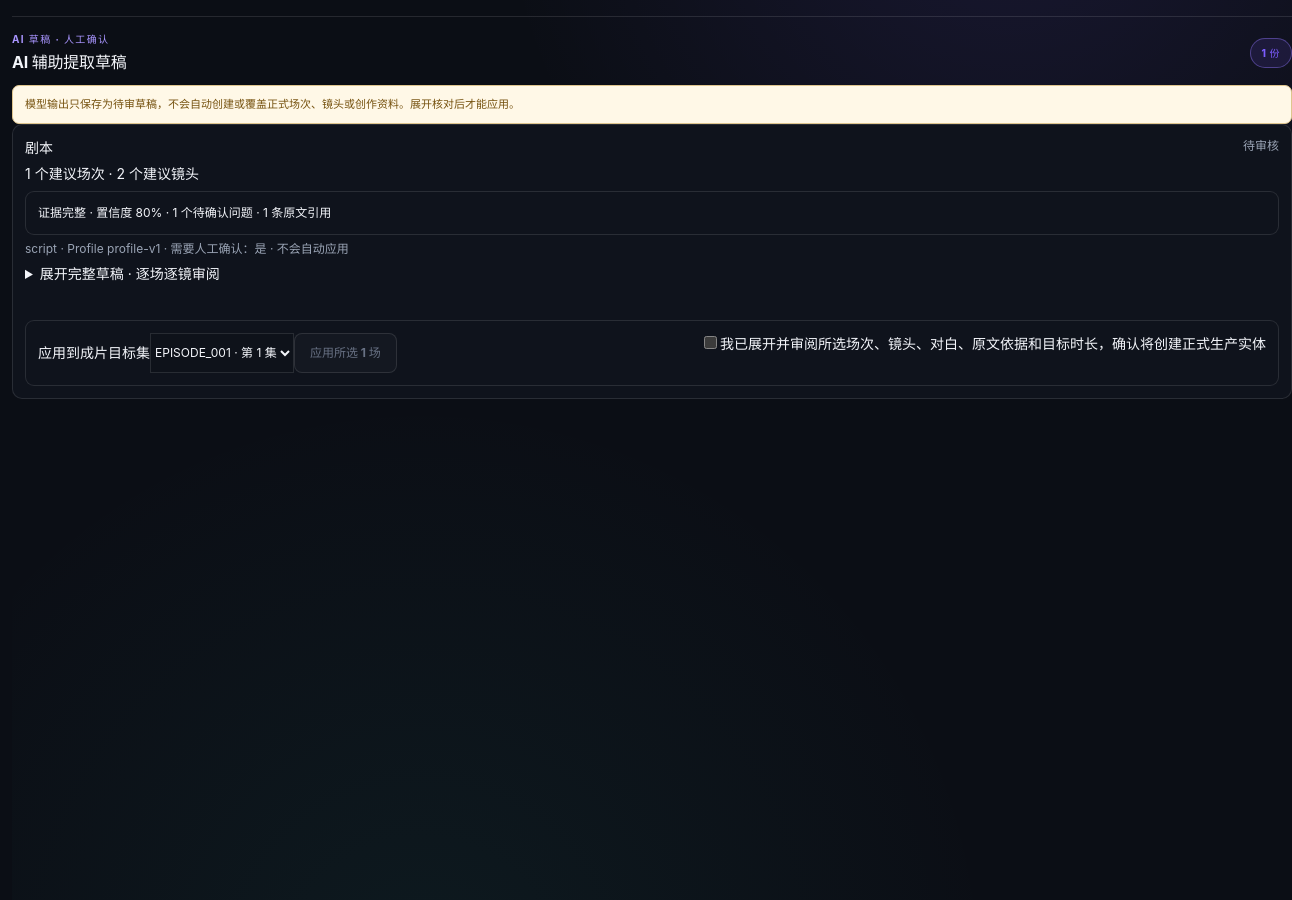
Test: AIDraftReviewPanel › applies a draft to the target episode and shows the result summary
The image size is (1292, 900).
Click the checkbox labelled "我已展开并审阅所选场次、镜头、对白、原文依据和目标时长，确认将创建正式生产实体": (710, 342) [704, 336, 717, 349]
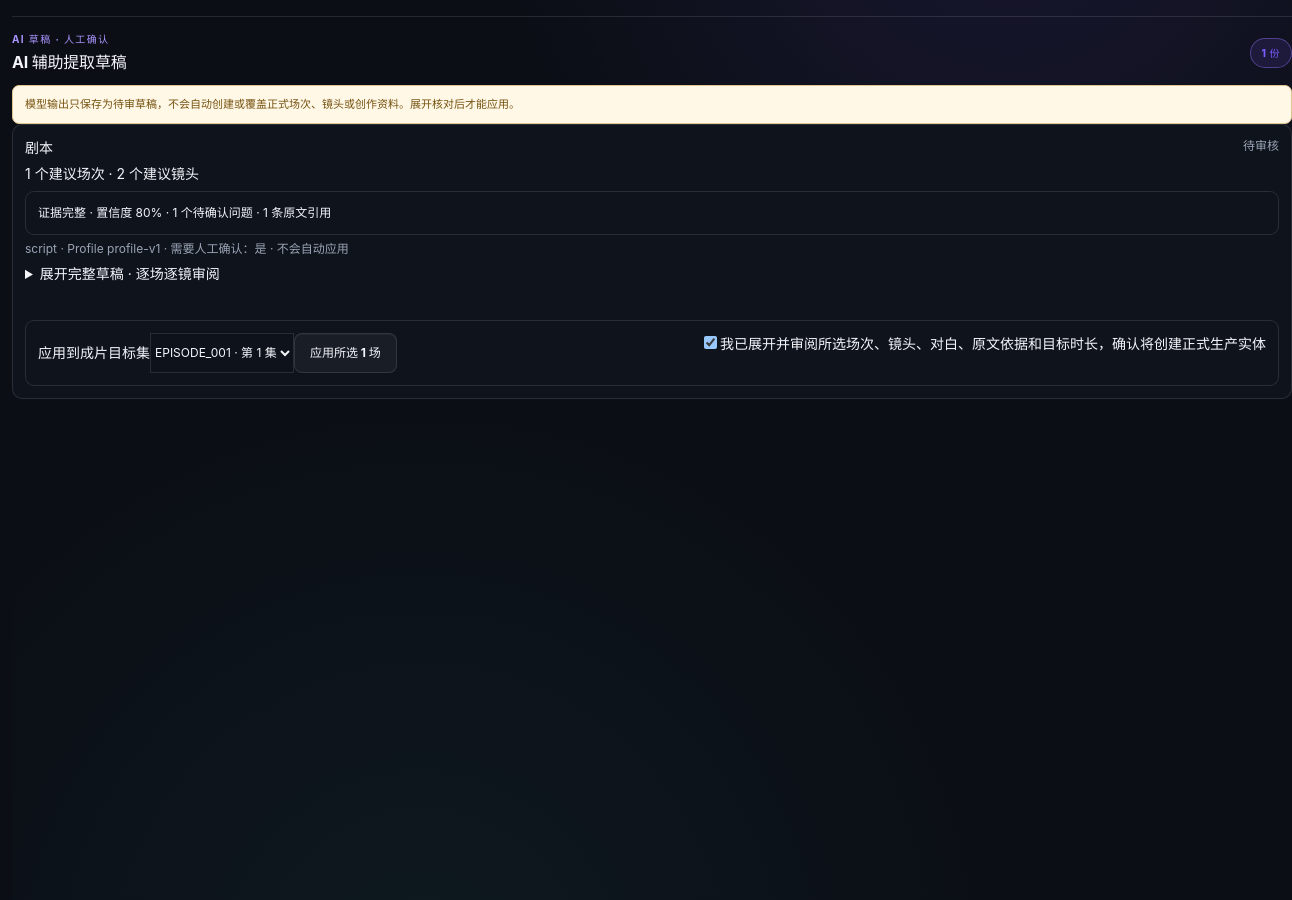
Result: the button with aria-label "应用到成片" is enabled
Click the button with aria-label "应用到成片": (345, 354) [294, 334, 397, 374]
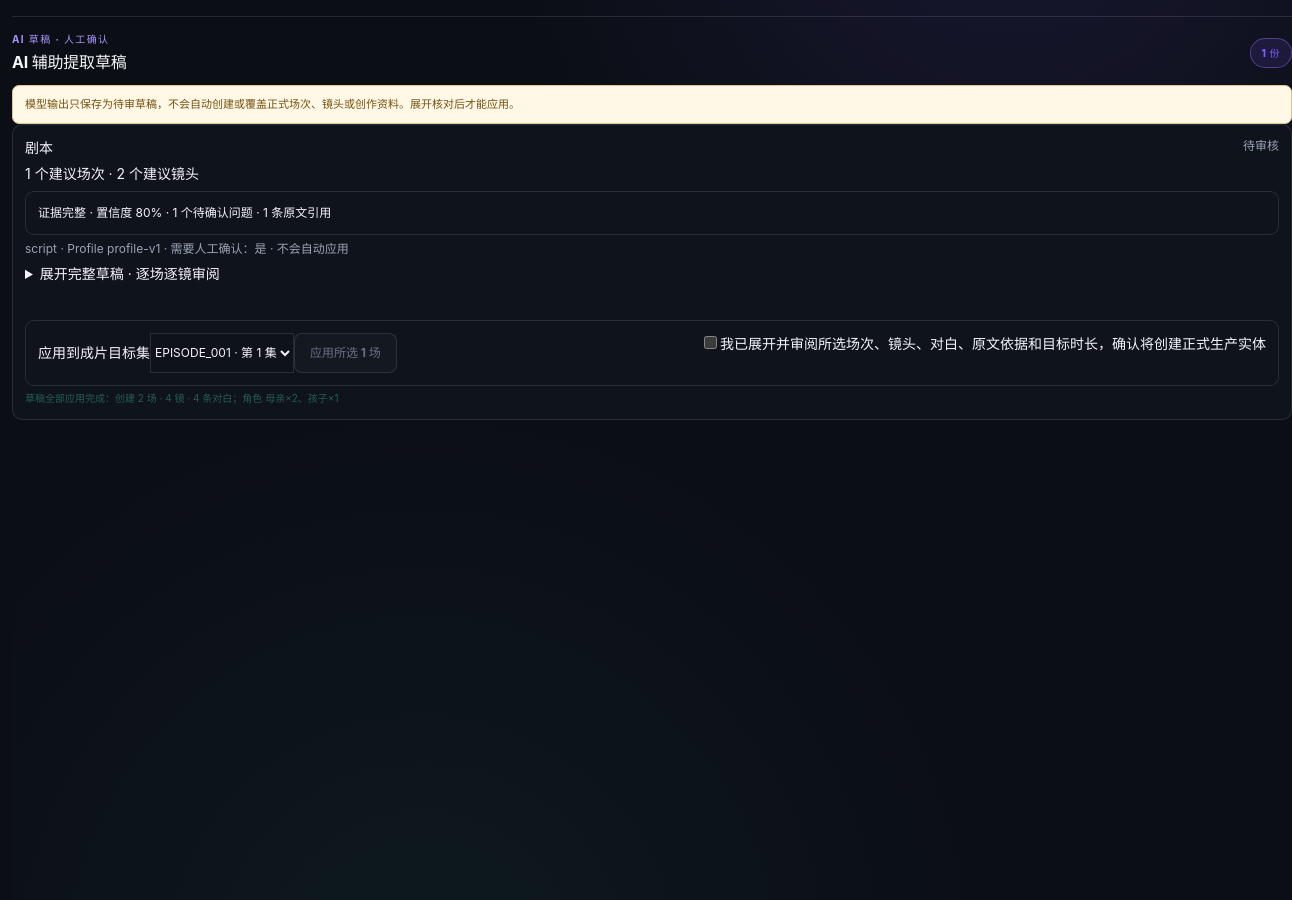
Result: the text "草稿全部应用完成：创建 2 场 · 4 镜 · 4 条对白；角色 母亲×2、孩子×1" is shown at [25, 392, 338, 404]
